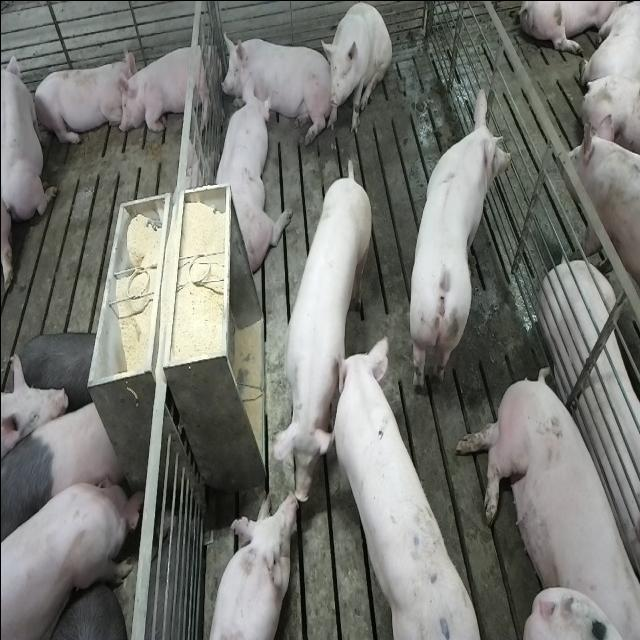Lateral_lying: (453, 362, 636, 636), (538, 256, 640, 582)
Sitting: (324, 2, 392, 138)
Standing: (330, 338, 488, 640), (274, 155, 374, 497), (406, 84, 514, 400), (2, 472, 140, 640), (2, 397, 128, 570), (558, 123, 640, 360)
Sternal_lying: (210, 84, 284, 274), (202, 489, 294, 638), (220, 27, 328, 139), (116, 37, 215, 139), (2, 41, 56, 224), (31, 52, 131, 148)
